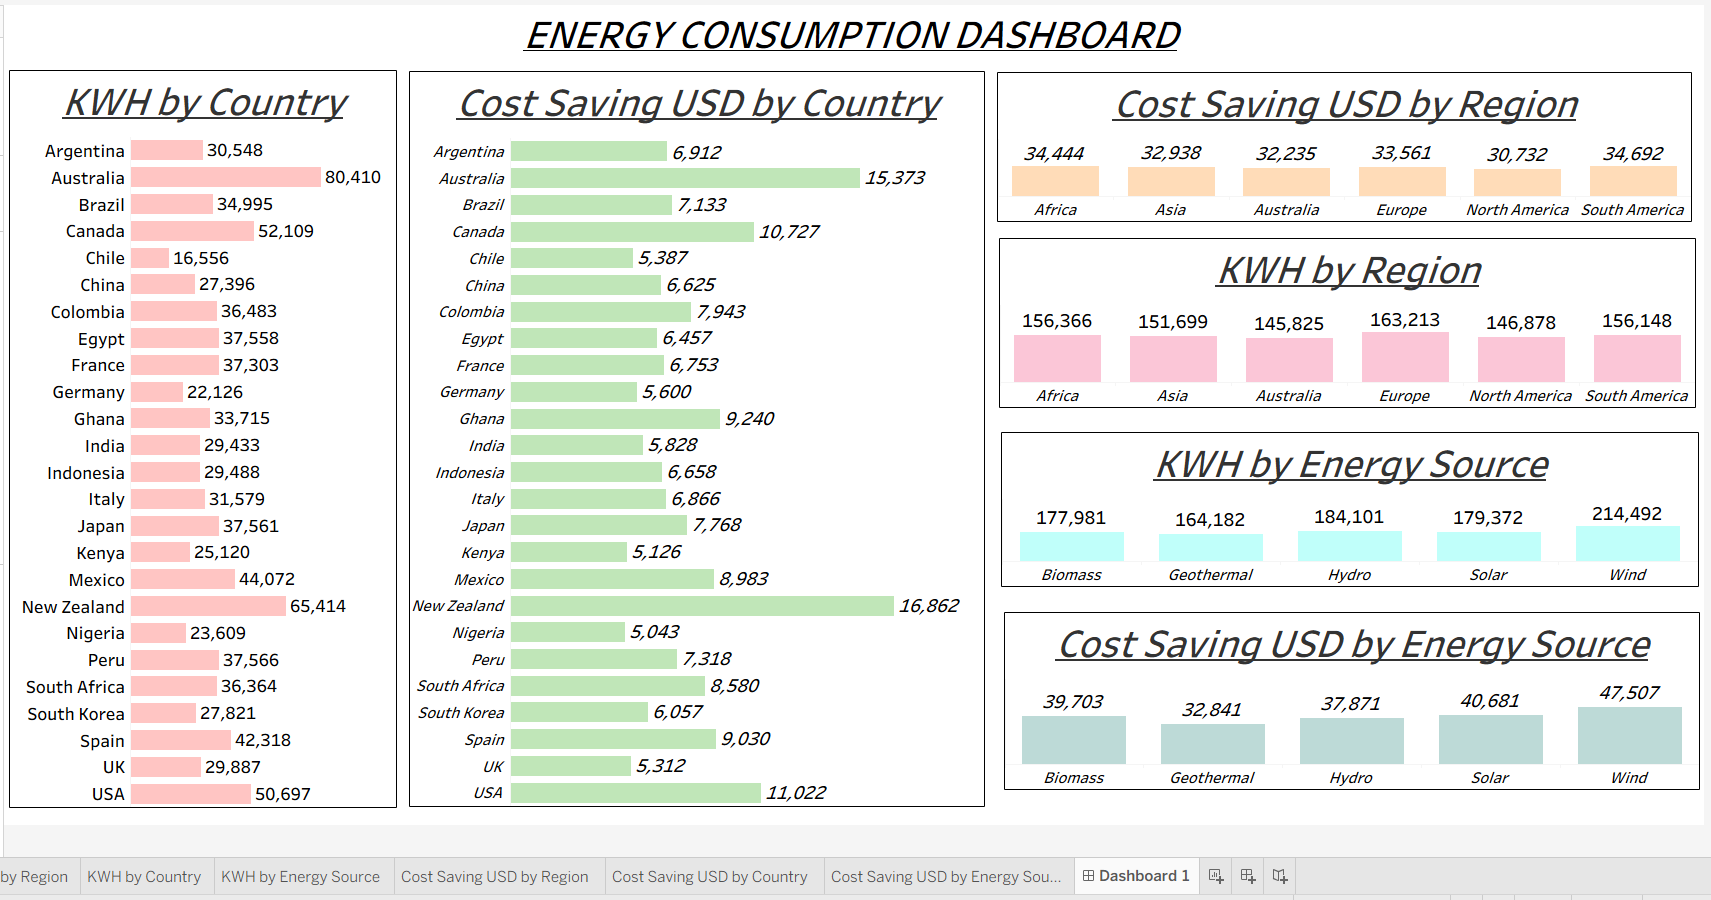

What the dashboard file says about the page in this screenshot:
{"tool":"tableau","page":{"name":"Dashboard 1","canvas":[1700,820],"ordinal":0},"visuals":[{"type":"text","box":[0,0,1700,57]},{"type":"text","box":[0,57,1700,763]},{"type":"worksheet","title":"KWH by Country","mark":"Automatic","rows":["COUNTRY"],"cols":["MONTHLY_USAGE_KWH"],"box":[5,65,388,738]},{"type":"worksheet","title":"Cost Saving USD by Country","mark":"Automatic","rows":["COUNTRY"],"cols":["COST_SAVINGS_USD"],"box":[405,66,576,736]},{"type":"worksheet","title":"Cost Saving USD by Region","mark":"Automatic","rows":["COST_SAVINGS_USD"],"cols":["REGION"],"box":[993,67,695,150]},{"type":"worksheet","title":"KWH by Region","mark":"Automatic","rows":["MONTHLY_USAGE_KWH"],"cols":["REGION"],"box":[995,233,697,170]},{"type":"worksheet","title":"KWH by Energy Source","mark":"Automatic","rows":["MONTHLY_USAGE_KWH"],"cols":["ENERGY_SOURCE"],"box":[997,427,698,155]},{"type":"worksheet","title":"Cost Saving USD by Energy Source","mark":"Automatic","rows":["COST_SAVINGS_USD"],"cols":["ENERGY_SOURCE"],"box":[1000,607,696,178]}]}

Visuals, with their boxes in screenshot pixels (x1, y1, x2, y2):
text: [left=4, top=49, right=1692, bottom=106]
text: [left=4, top=106, right=1692, bottom=863]
"KWH by Country" worksheet: [left=9, top=114, right=395, bottom=846]
"Cost Saving USD by Country" worksheet: [left=406, top=115, right=978, bottom=845]
"Cost Saving USD by Region" worksheet: [left=990, top=116, right=1680, bottom=264]
"KWH by Region" worksheet: [left=992, top=280, right=1684, bottom=449]
"KWH by Energy Source" worksheet: [left=994, top=473, right=1687, bottom=627]
"Cost Saving USD by Energy Source" worksheet: [left=997, top=651, right=1688, bottom=828]
